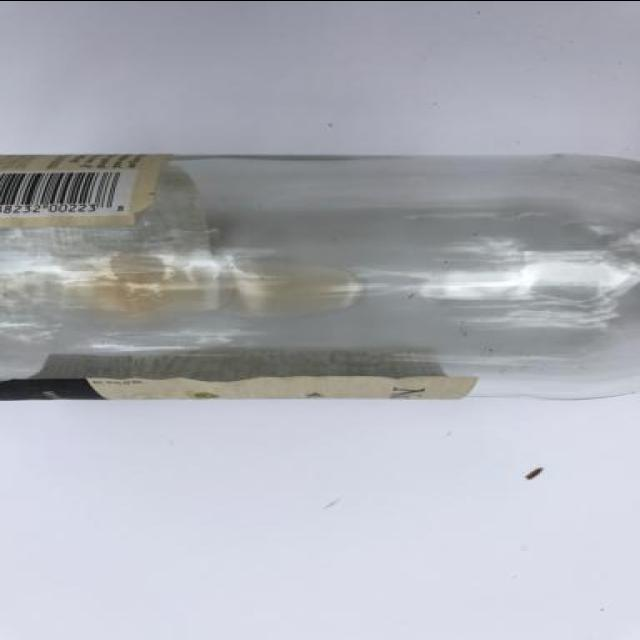glass: (0, 153, 640, 404)
